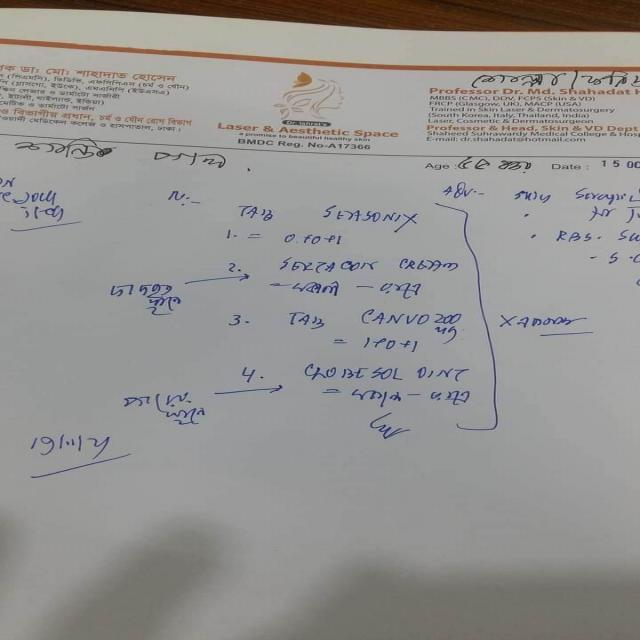Canvo: (353, 305, 432, 329)
Clobesol: (282, 356, 405, 384)
Seasonix: (302, 202, 430, 232)
